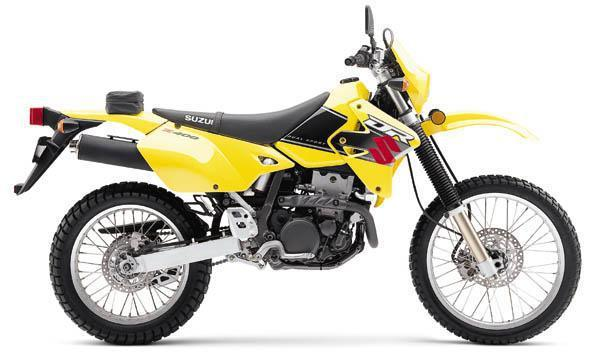motorcycle: (1, 3, 590, 348)
